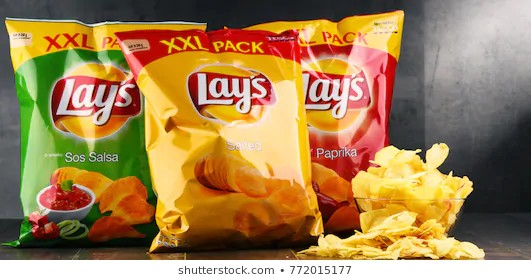lays-large: (121, 31, 319, 245), (9, 20, 171, 250), (306, 12, 409, 236)
